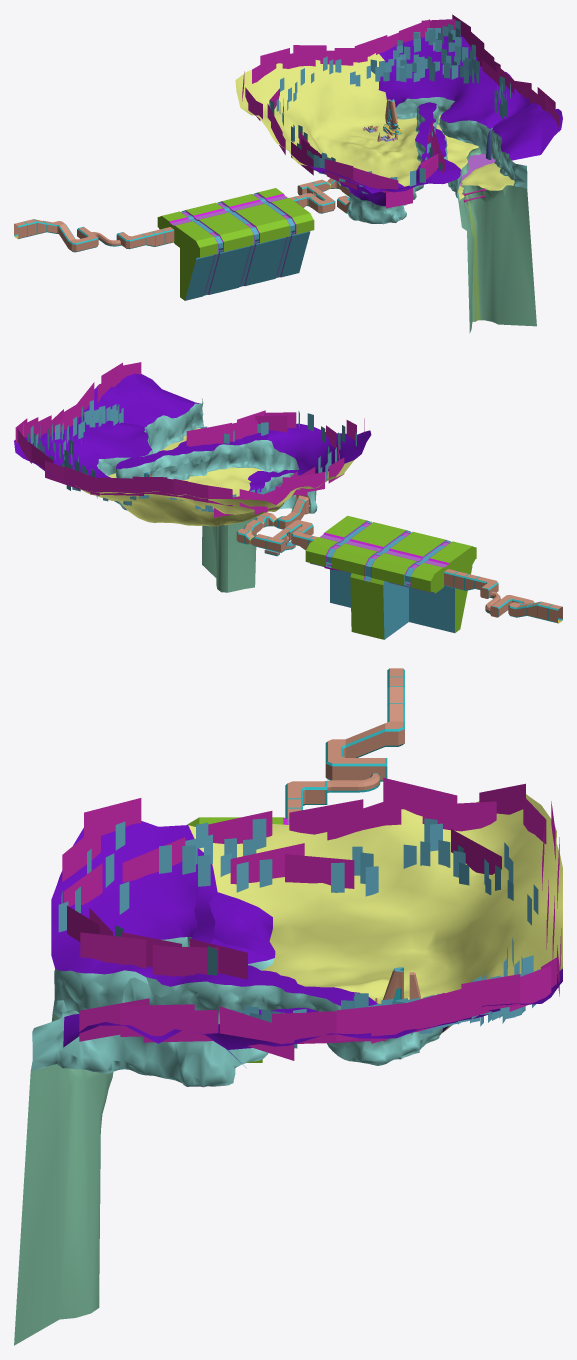
File: halo_props.fbx
The picture shows the model from 3 angles, top to bottom: view 1: azimuth 30°, elevation 25°; view 2: azimuth 150°, elevation 25°; view 3: azimuth 270°, elevation 25°; orthographic projection. The views are drawn at different scales.
Parts seen in each view (by area): view 1: cluster_11, cluster_2, cluster_12, cluster_10, cluster_17, cluster_1, cluster_5, cluster_3, cluster_6, cluster_8, cluster_18, cluster_24 (+1 smaller); view 2: cluster_2, cluster_10, cluster_17, cluster_3, cluster_11, cluster_5, cluster_6, cluster_1, cluster_12, cluster_8, cluster_18, cluster_16; view 3: cluster_11, cluster_10, cluster_2, cluster_12, cluster_3, cluster_1, cluster_6, cluster_8.
Part boxes in pixels (left/top/right/bottom): cluster_11: left=235, top=53, right=514, bottom=199; cluster_2: left=310, top=34, right=562, bottom=205; cluster_12: left=458, top=147, right=536, bottom=333; cluster_10: left=242, top=14, right=559, bottom=208; cluster_17: left=157, top=188, right=314, bottom=300; cluster_1: left=269, top=20, right=510, bottom=193; cluster_5: left=181, top=99, right=398, bottom=300; cluster_3: left=347, top=97, right=527, bottom=224; cluster_6: left=14, top=99, right=398, bottom=251; cluster_8: left=14, top=109, right=401, bottom=252; cluster_18: left=169, top=193, right=296, bottom=294; cluster_24: left=465, top=191, right=480, bottom=321; cluster_2: left=14, top=373, right=371, bottom=508; cluster_10: left=15, top=362, right=364, bottom=517; cluster_17: left=305, top=515, right=476, bottom=639; cluster_3: left=97, top=398, right=317, bottom=513; cluster_11: left=81, top=428, right=354, bottom=526; cluster_5: left=144, top=472, right=454, bottom=639; cluster_6: left=149, top=473, right=562, bottom=622; cluster_1: left=23, top=400, right=356, bottom=512; cluster_12: left=202, top=517, right=256, bottom=592; cluster_8: left=144, top=473, right=562, bottom=623; cluster_18: left=323, top=521, right=450, bottom=586; cluster_16: left=310, top=523, right=448, bottom=593; cluster_11: left=188, top=794, right=562, bottom=1032; cluster_10: left=62, top=777, right=561, bottom=1060; cluster_2: left=51, top=821, right=562, bottom=1049; cluster_12: left=14, top=1012, right=235, bottom=1345; cluster_3: left=30, top=937, right=443, bottom=1087; cluster_1: left=58, top=818, right=539, bottom=1048; cluster_6: left=287, top=668, right=421, bottom=1003; cluster_8: left=285, top=668, right=404, bottom=1001.
Size of the model in its own units: 4940670 by 2067449 by 2489640.
